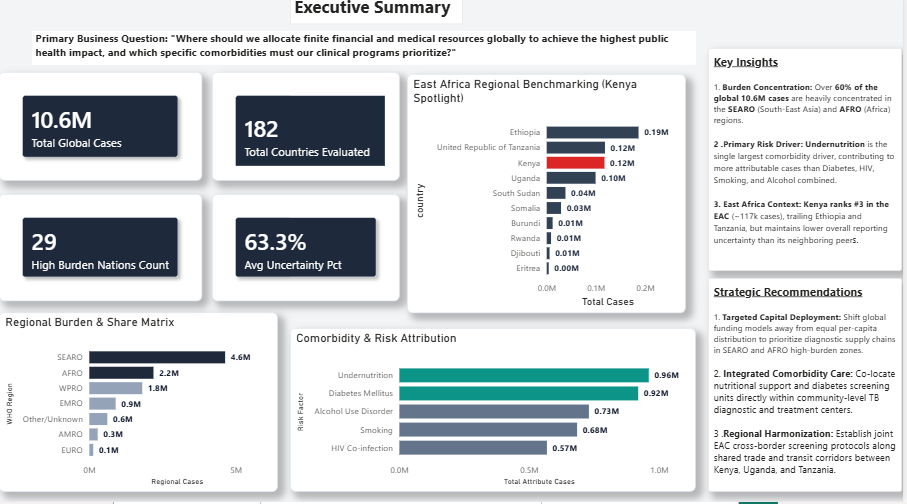

What the dashboard file says about the page in this screenshot:
{"tool":"powerbi","page":{"name":"Executive Summary","canvas":[1280,720],"ordinal":0},"visuals":[{"type":"clusteredBarChart","title":"Regional Burden & Share Matrix","fields":{"Y":["Sum(public vw_pbi_regional_breakdown.regional_cases)"],"Category":["public vw_pbi_regional_breakdown.who_region"]},"box":[0,450.7,395.4,255.1],"z":0},{"type":"clusteredBarChart","title":"Comorbidity & Risk Attribution","fields":{"Y":["Sum(public vw_pbi_risk_attribution.total_attributable_cases)"],"Category":["public vw_pbi_risk_attribution.risk_factor_name"]},"box":[412.4,473.4,575.4,232.4],"z":1000},{"type":"cardVisual","fields":{"Data":["public vw_pbi_global_kpis.Total Global Cases"]},"box":[0,110.6,287.7,154.5],"z":2000},{"type":"cardVisual","fields":{"Data":["public vw_pbi_global_kpis.High Burden Nations Count"]},"box":[0,283.5,287.7,151.7],"z":3000},{"type":"cardVisual","fields":{"Data":["public vw_pbi_global_kpis.Avg Uncertainty Pct"]},"box":[301.9,283.5,266.5,151.7],"z":4000},{"type":"cardVisual","fields":{"Data":["public vw_pbi_global_kpis.Total Countries Evaluated"]},"box":[301.9,110.6,266.5,154.5],"z":5000},{"type":"clusteredBarChart","title":"East Africa Regional Benchmarking (Kenya Spotlight)","fields":{"Y":["Sum(public vw_pbi_kenya_eac_benchmark.total_cases)"],"Category":["public vw_pbi_kenya_eac_benchmark.country"]},"box":[578.3,113.4,395,338.7],"z":6000},{"type":"textbox","box":[1004.9,76.5,275,316.1],"z":7000},{"type":"textbox","box":[1004.9,402.5,275,303.3],"z":8000},{"type":"textbox","box":[412.4,0,245.2,42.5],"z":9000},{"type":"textbox","box":[46.8,52.4,941.1,48.2],"z":10000}]}

Visuals, with their boxes in screenshot pixels (x1, y1, x2, y2), scaled from the page's 1280x720 canvas onto the 907x504 screenshot:
"Regional Burden & Share Matrix" clusteredBarChart: {"left": 0, "top": 315, "right": 280, "bottom": 494}
"Comorbidity & Risk Attribution" clusteredBarChart: {"left": 292, "top": 331, "right": 700, "bottom": 494}
cardVisual - public vw_pbi_global_kpis.Total Global Cases: {"left": 0, "top": 77, "right": 204, "bottom": 186}
cardVisual - public vw_pbi_global_kpis.High Burden Nations Count: {"left": 0, "top": 198, "right": 204, "bottom": 305}
cardVisual - public vw_pbi_global_kpis.Avg Uncertainty Pct: {"left": 214, "top": 198, "right": 403, "bottom": 305}
cardVisual - public vw_pbi_global_kpis.Total Countries Evaluated: {"left": 214, "top": 77, "right": 403, "bottom": 186}
"East Africa Regional Benchmarking (Kenya Spotlight)" clusteredBarChart: {"left": 410, "top": 79, "right": 690, "bottom": 316}
textbox: {"left": 712, "top": 54, "right": 906, "bottom": 275}
textbox: {"left": 712, "top": 282, "right": 906, "bottom": 494}
textbox: {"left": 292, "top": 0, "right": 466, "bottom": 30}
textbox: {"left": 33, "top": 37, "right": 700, "bottom": 70}
